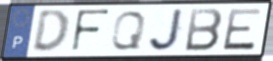B: (183, 8, 225, 53)
D: (30, 8, 71, 55)
E: (221, 7, 264, 52)
F: (69, 9, 112, 55)
J: (147, 8, 186, 53)
Q: (109, 9, 149, 52)
